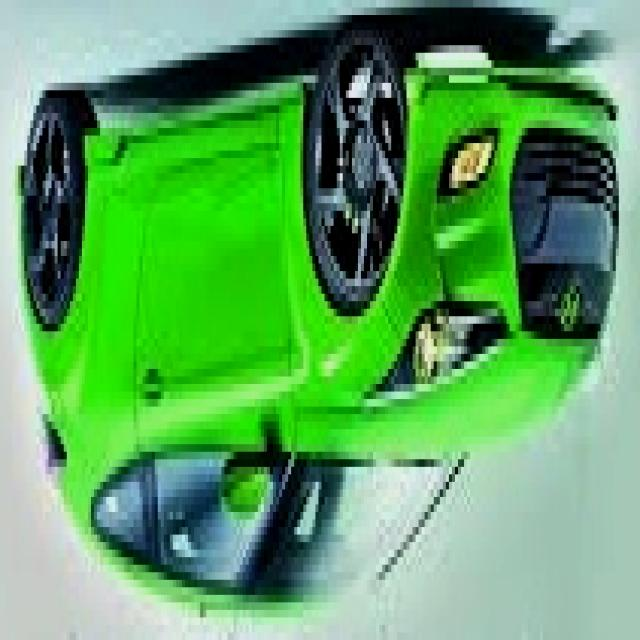green: (0, 0, 614, 632)
